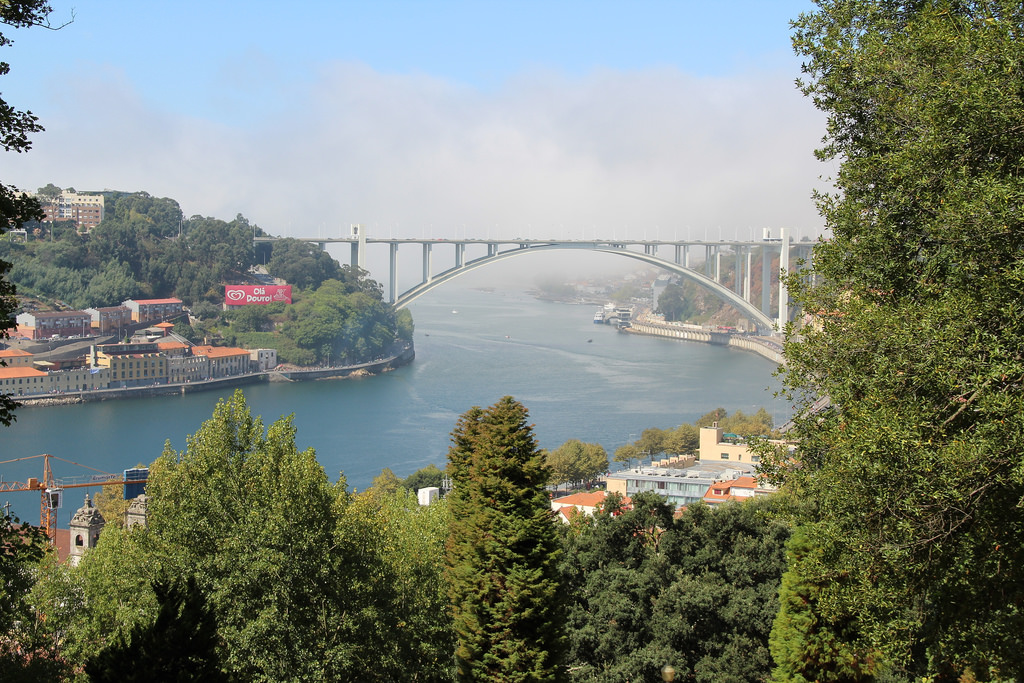arrabida: (250, 221, 831, 335)
